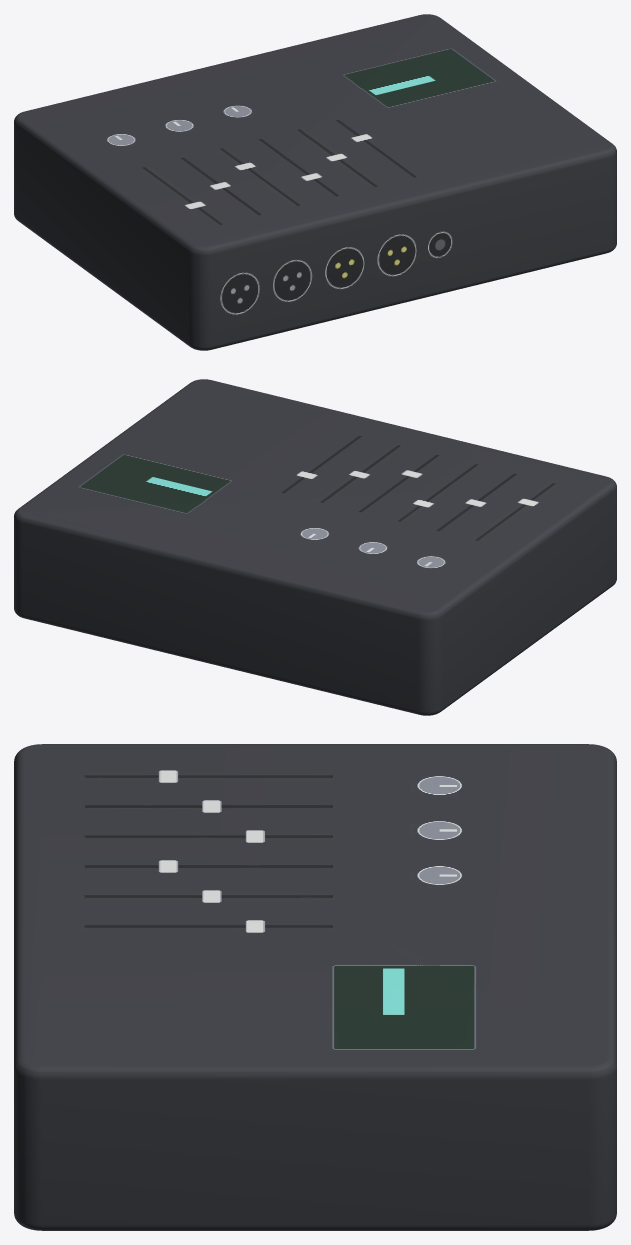
File: sound-devices-833.glb
The picture shows the model from 3 angles, top to bottom: view 1: azimuth 30°, elevation 25°; view 2: azimuth 150°, elevation 25°; view 3: azimuth 270°, elevation 25°; orthographic projection. The views are drawn at different scales.
Parts seen in each view (by area): view 1: sound-devices-833-body; view 2: sound-devices-833-body; view 3: sound-devices-833-body.
Part boxes in pixels (x1,y1,x2,y2): sound-devices-833-body: (14, 14, 616, 350); sound-devices-833-body: (14, 379, 616, 715); sound-devices-833-body: (14, 744, 616, 1230).
Bounding box in the file's own units: 0.22 × 0.051 × 0.17.
Materials: 1 (1 with a texture image).
